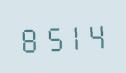eight: (18, 22, 39, 54)
five: (40, 21, 61, 53)
four: (84, 18, 105, 50)
one: (62, 20, 83, 51)
